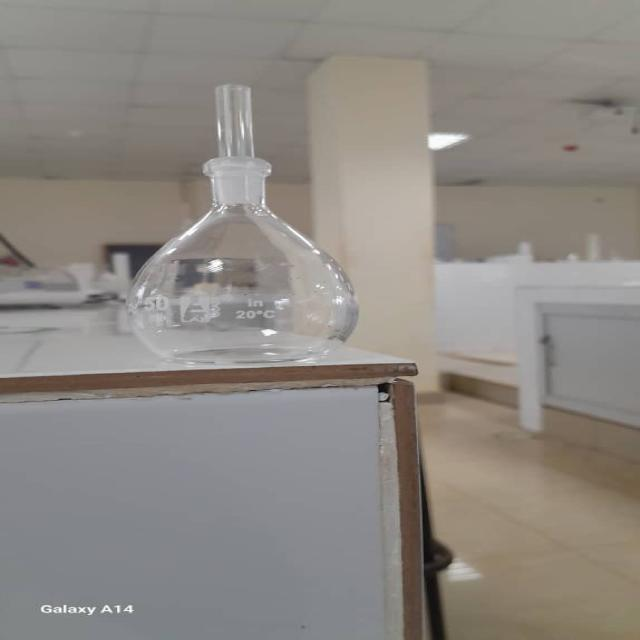Density Bottle for Liquids: (95, 74, 374, 371)
